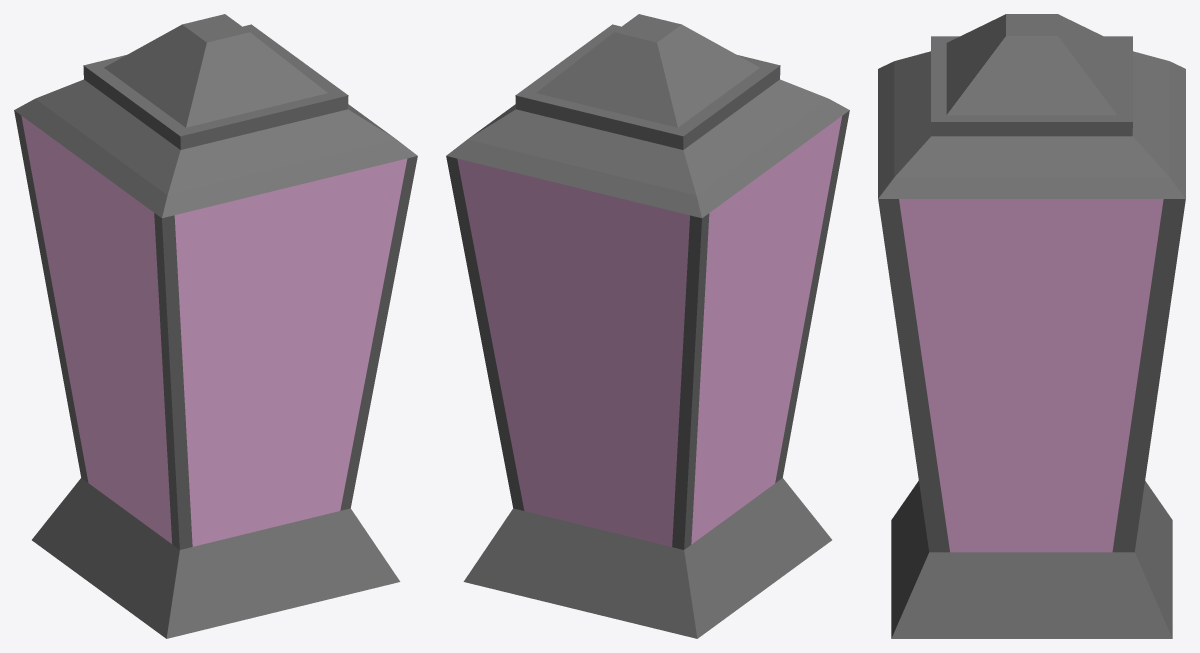
Rendered from Lamparina.fbx.
3 renders of one model, left to right at view 1: azimuth 30°, elevation 25°; view 2: azimuth 150°, elevation 25°; view 3: azimuth 270°, elevation 25°, orthographic. The views are drawn at different scales.
Visible parts, largest first — view 1: Lamparina Certa.001; view 2: Lamparina Certa.001; view 3: Lamparina Certa.001.
Part boxes in pixels (left/top/right/bottom): Lamparina Certa.001: left=14, top=14, right=417, bottom=638; Lamparina Certa.001: left=446, top=14, right=849, bottom=638; Lamparina Certa.001: left=878, top=14, right=1185, bottom=638.
Bounding box in the file's own units: 18.34 × 36.47 × 18.34.
